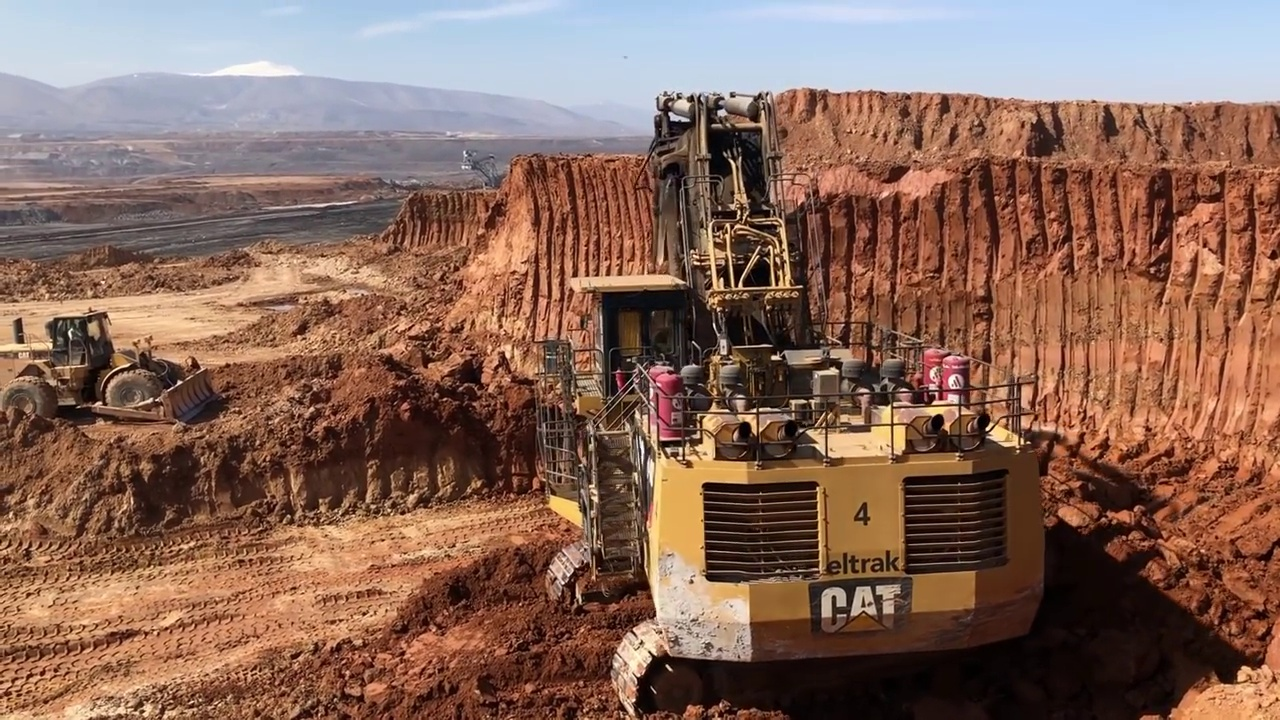bulldozer: (4, 307, 223, 429)
excavator: (537, 75, 1048, 712)
